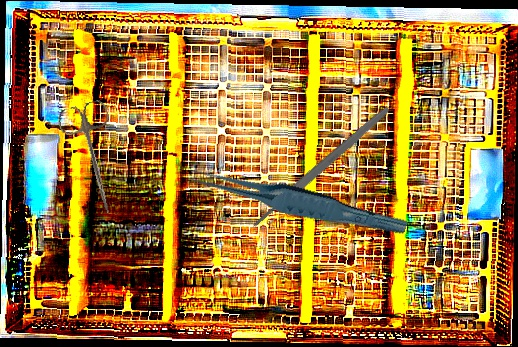Iris Scissors: (55, 98, 135, 220)
Scalpel Handle: (249, 104, 393, 230)
Tissue Forceps: (188, 151, 409, 251)
